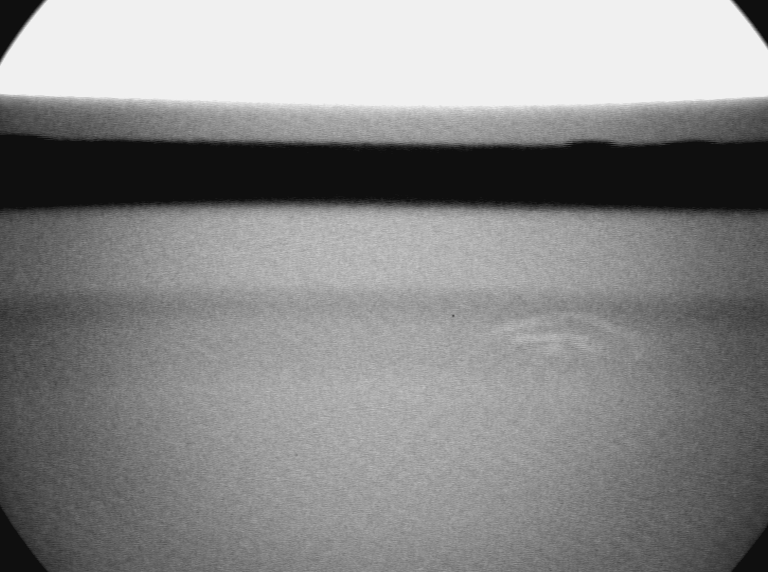defect: (488, 310, 648, 371)
